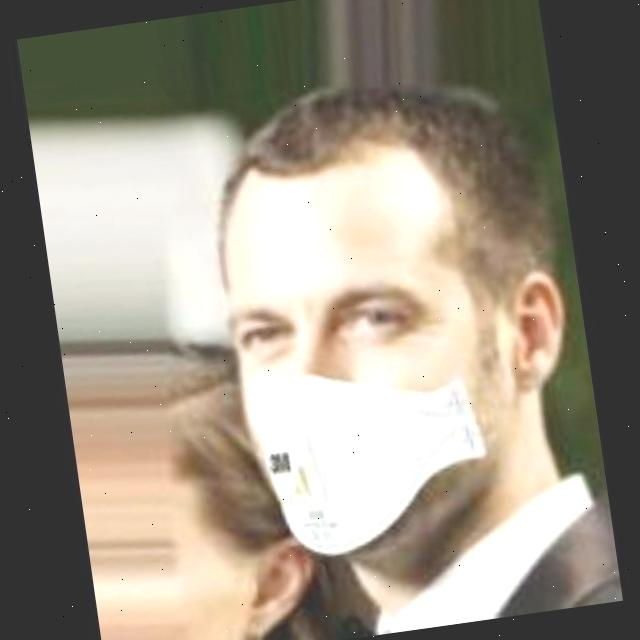suspicion: (170, 86, 532, 594)
